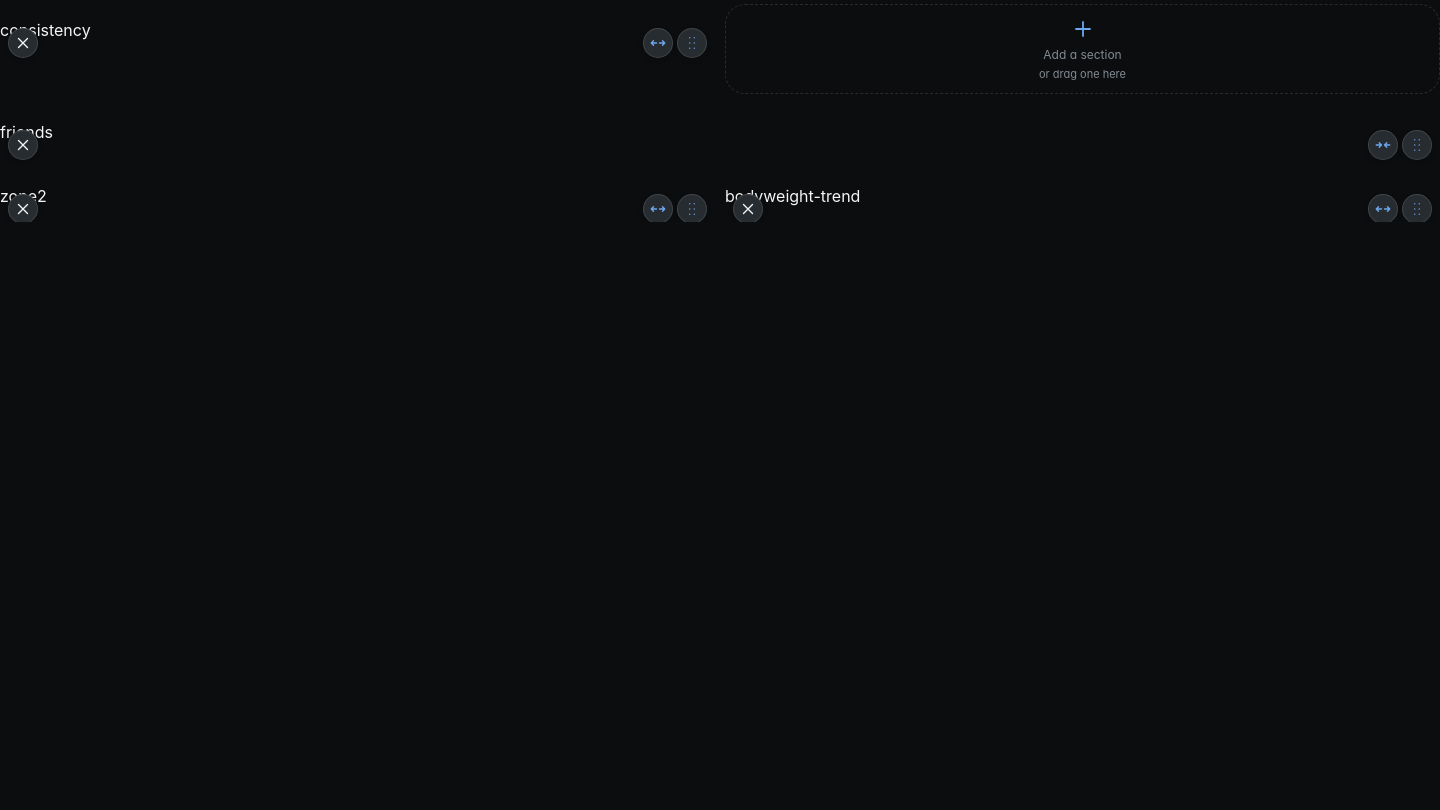
Scenario: Home empty-space dragging › shows an empty state when all sections are added and closes without changing the draft
This screenshot has width=1440, height=810.
Click the button "Add a section or drag one here" at (1082, 49), box top-left (725, 4), bottom-right (1439, 94)
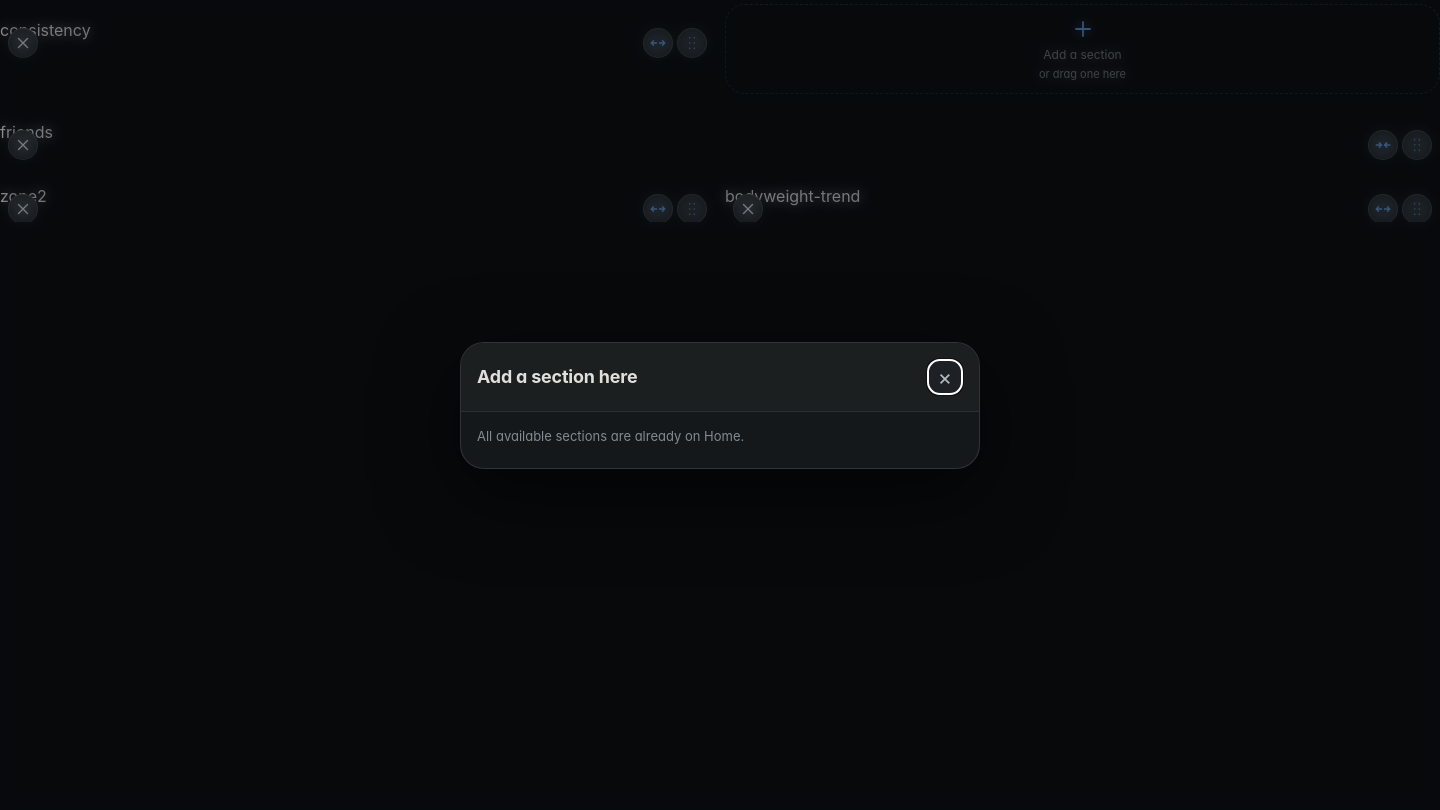
Result: the dialog with class "home-section-picker" shows "All available sections are already on Home." at top-left (477, 428), bottom-right (744, 444)
Click the button named "Close Add a section here" at (945, 376), box top-left (927, 358), bottom-right (963, 394)
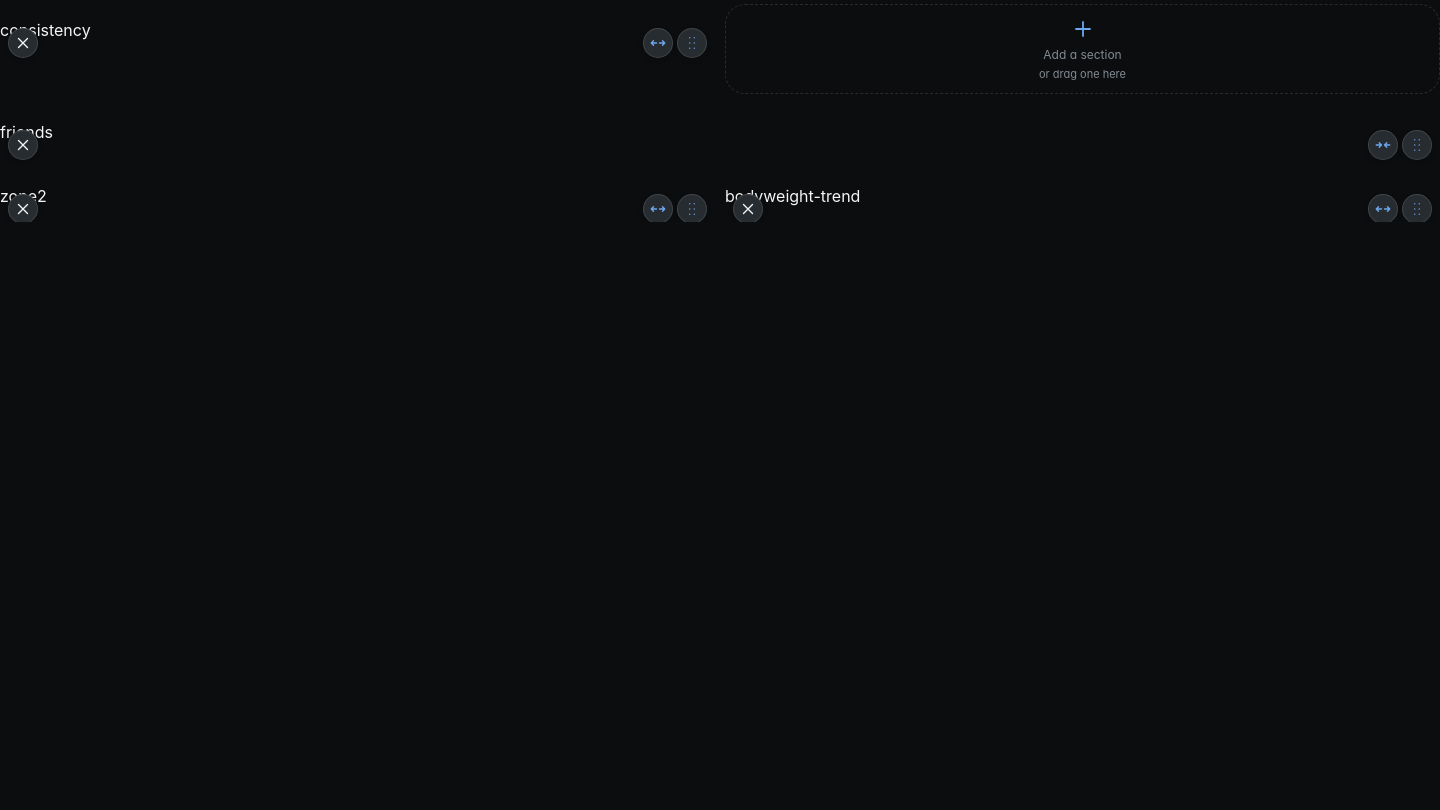
Result: the dialog with class "home-section-picker" is gone
